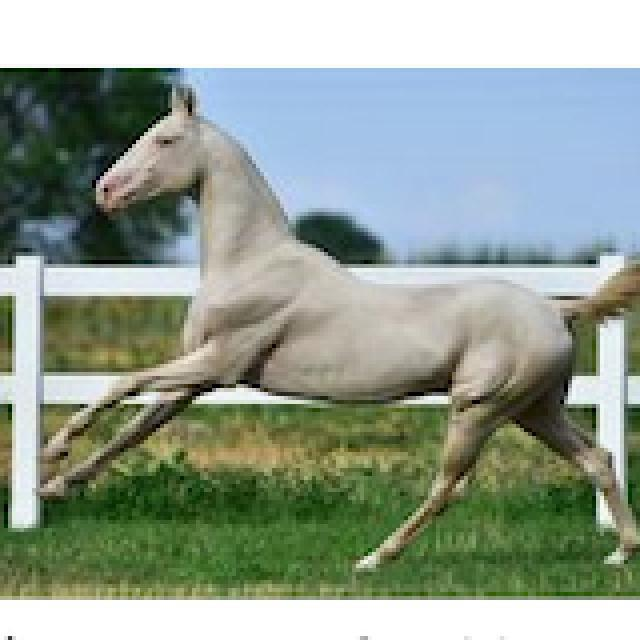Horse: (32, 76, 636, 576)
